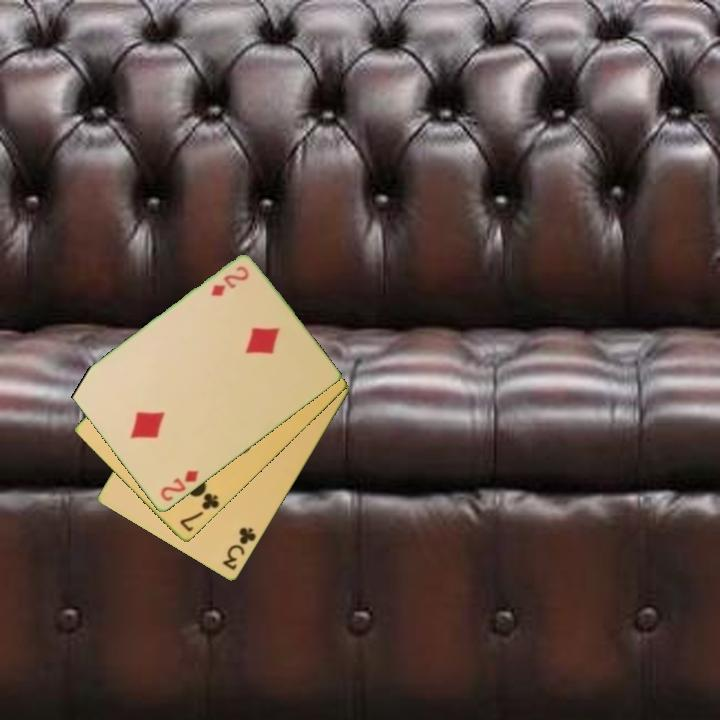2d: (157, 467, 201, 505), (207, 263, 252, 300)
3c: (219, 524, 259, 574)
7c: (176, 489, 222, 535)
